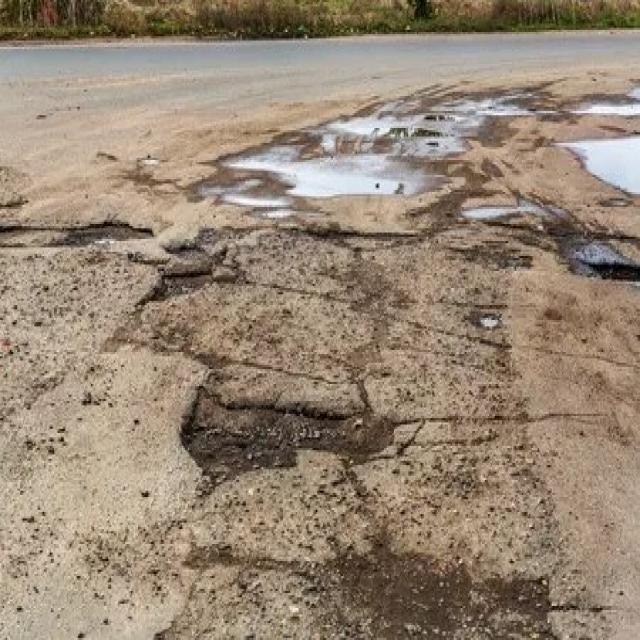Pothole: (181, 391, 401, 486), (308, 215, 432, 271), (4, 216, 148, 250), (148, 267, 229, 305), (578, 241, 638, 288)
